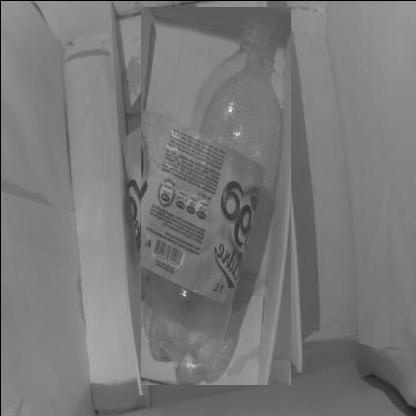plastic_bottles: (140, 6, 290, 384)
